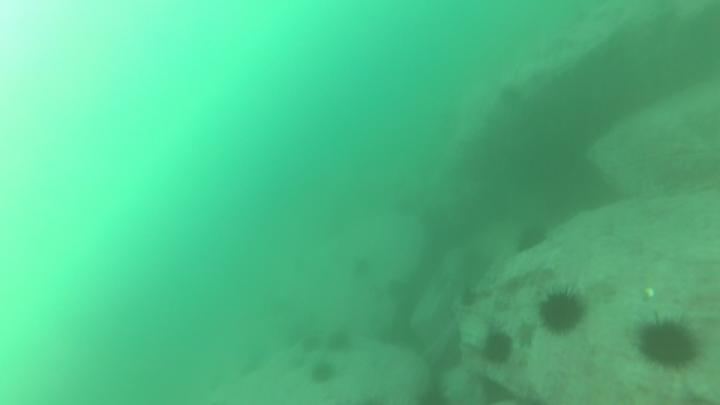echinus: (635, 311, 700, 370), (535, 286, 588, 338), (477, 327, 515, 368), (513, 227, 550, 256), (496, 82, 525, 115), (308, 360, 337, 387), (350, 255, 373, 283), (327, 331, 354, 354)
starfish: (513, 318, 541, 353)
